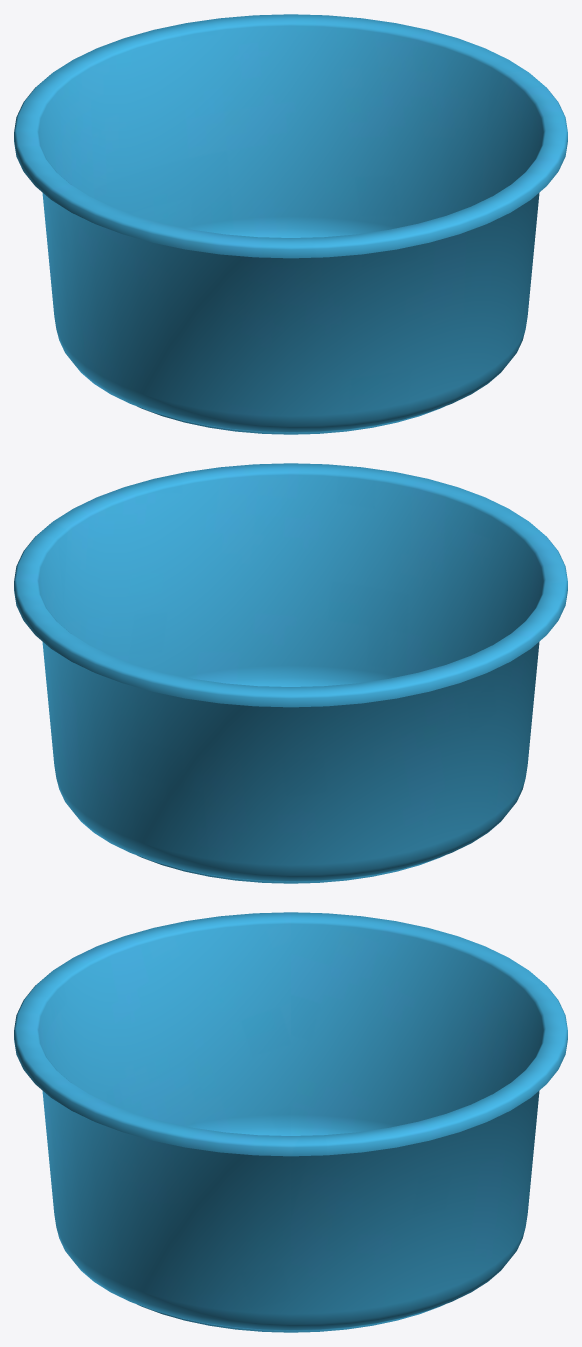
The model's file is in_wash_basin.glb.
3 renders of one model, top to bottom at view 1: azimuth 30°, elevation 25°; view 2: azimuth 150°, elevation 25°; view 3: azimuth 270°, elevation 25°, orthographic.
Parts seen in each view (by area): view 1: Plastic Wash Basin_PlasticWashBasin_0; view 2: Plastic Wash Basin_PlasticWashBasin_0; view 3: Plastic Wash Basin_PlasticWashBasin_0.
Part boxes in pixels (bbox=[...]): Plastic Wash Basin_PlasticWashBasin_0: bbox=[14, 14, 567, 434]; Plastic Wash Basin_PlasticWashBasin_0: bbox=[14, 463, 567, 883]; Plastic Wash Basin_PlasticWashBasin_0: bbox=[14, 912, 567, 1332].
Size of the model in its own units: 0.5 by 0.2143 by 0.5.
1 material, 1 textured.
